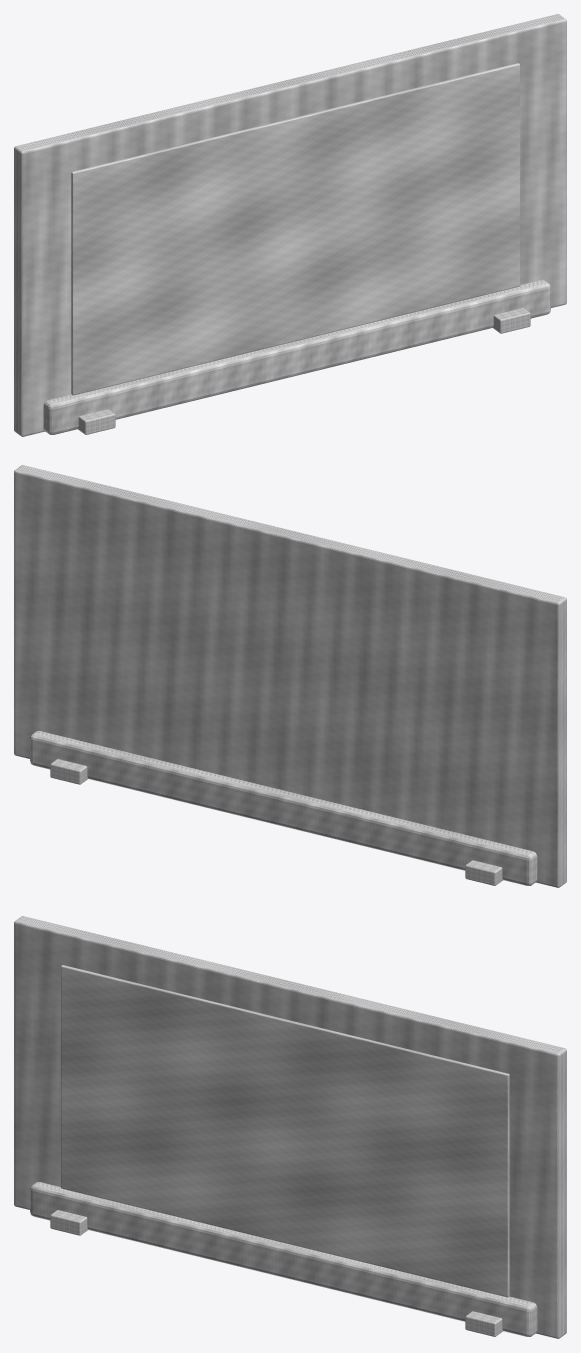
File: angled-frame-window_variant_b.glb
3 views of the same model, one above another, from view 1: azimuth 30°, elevation 25°; view 2: azimuth 150°, elevation 25°; view 3: azimuth 330°, elevation 25° (orthographic).
Parts seen in each view (by area): view 1: Glazing.001, Window frame.001, Foundation.001, Mounting foot.006, Mounting foot.004; view 2: Window frame.001, Foundation.001, Mounting foot.007, Mounting foot.005; view 3: Glazing.001, Window frame.001, Foundation.001, Mounting foot.004, Mounting foot.006.
Part boxes in pixels (x1,y1,x2,y2): Glazing.001: [71, 63, 519, 395]; Window frame.001: [14, 14, 566, 436]; Foundation.001: [43, 280, 550, 434]; Mounting foot.006: [492, 308, 530, 333]; Mounting foot.004: [78, 409, 115, 434]; Window frame.001: [14, 465, 566, 887]; Foundation.001: [30, 731, 537, 885]; Mounting foot.007: [50, 759, 88, 784]; Mounting foot.005: [465, 860, 502, 885]; Glazing.001: [61, 965, 509, 1297]; Window frame.001: [14, 916, 566, 1338]; Foundation.001: [30, 1182, 537, 1336]; Mounting foot.004: [50, 1210, 88, 1235]; Mounting foot.006: [465, 1311, 502, 1336].
Size of what is drawn, in the model's own units: 8 by 4 by 0.906.
Materials: 3 (3 with a texture image).
